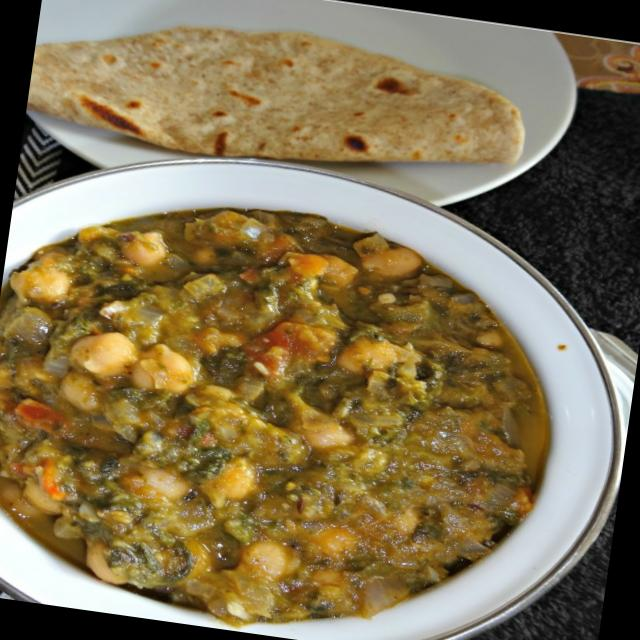Chole: (0, 173, 578, 640)
